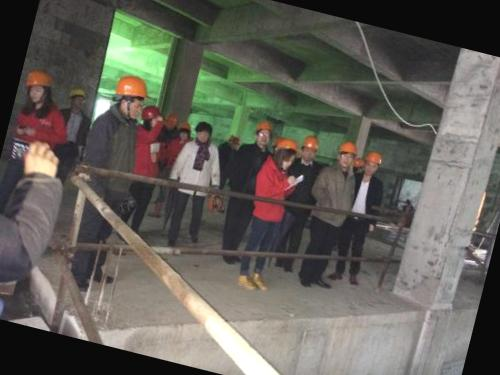no_helmet: (188, 114, 218, 146)
